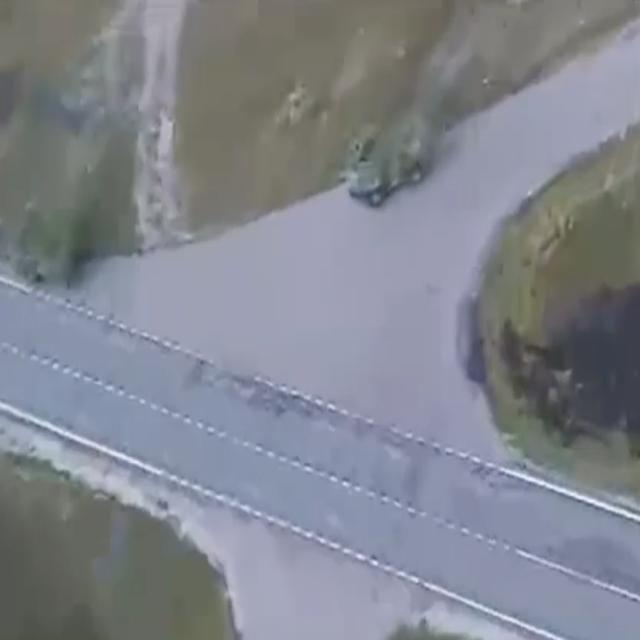vehicle: (342, 116, 424, 207)
